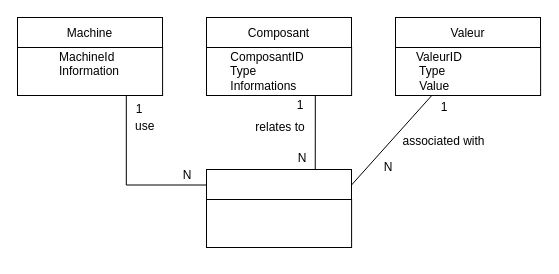
The diagram is 559 pixels wide and 274 high, and some of its shapes have lost their labels. Each missing label, with the centre of its shape:
"Information" goes at point (279, 184).
"InformationID" goes at point (279, 223).
